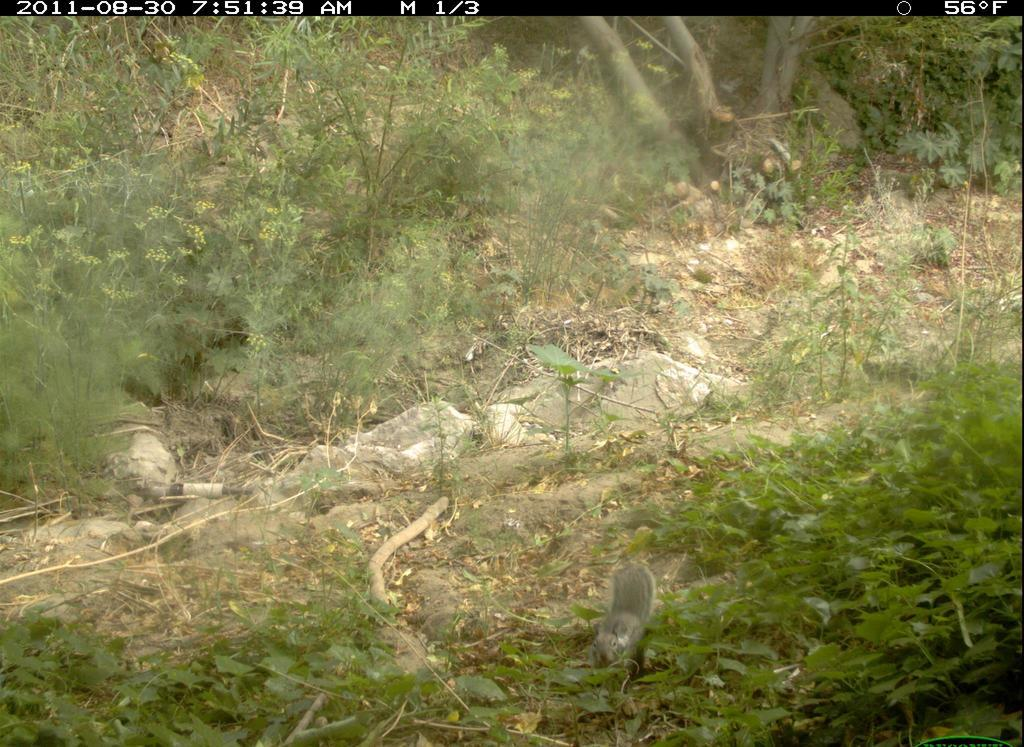squirrel: (583, 551, 667, 674)
